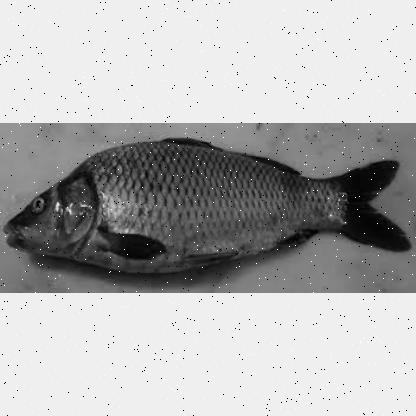ikan-mas: (3, 138, 395, 268)
